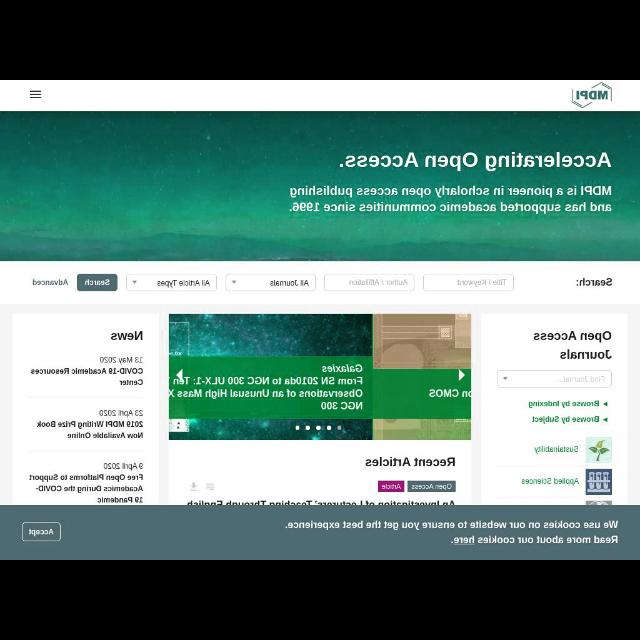backgroundimage: (1, 112, 640, 260)
icon: (30, 90, 42, 100), (232, 280, 236, 284), (132, 280, 136, 284), (603, 402, 607, 406), (603, 418, 607, 422), (503, 376, 507, 379)
image: (169, 314, 471, 440), (572, 82, 612, 108), (586, 469, 612, 495), (585, 438, 611, 462)
input: (423, 274, 512, 292), (324, 275, 414, 291)
spinner: (498, 370, 610, 388), (127, 274, 216, 292), (227, 274, 315, 290)
text: (288, 186, 612, 214), (339, 152, 611, 172), (285, 520, 619, 530), (452, 535, 618, 545), (37, 420, 143, 430), (29, 474, 143, 482), (36, 485, 142, 493), (366, 458, 454, 467), (535, 332, 611, 342), (31, 368, 142, 374), (529, 400, 599, 408), (532, 416, 600, 424), (560, 349, 612, 359), (522, 478, 578, 486), (68, 432, 142, 438), (157, 280, 210, 288), (458, 279, 507, 287), (98, 496, 144, 504), (99, 410, 143, 418), (534, 446, 578, 454), (349, 279, 407, 285), (100, 357, 142, 365), (104, 463, 142, 471), (576, 278, 612, 286), (111, 332, 143, 341), (412, 484, 452, 491), (270, 280, 310, 286), (564, 376, 604, 382), (32, 279, 68, 285), (28, 528, 54, 536), (120, 378, 142, 386), (84, 279, 110, 285), (382, 483, 401, 489)
textbutton: (77, 274, 117, 292), (22, 523, 60, 541), (408, 481, 454, 492), (378, 481, 404, 491)
